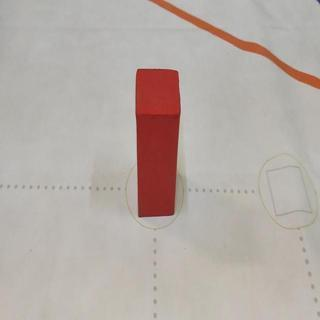redbox: (135, 68, 181, 216)
